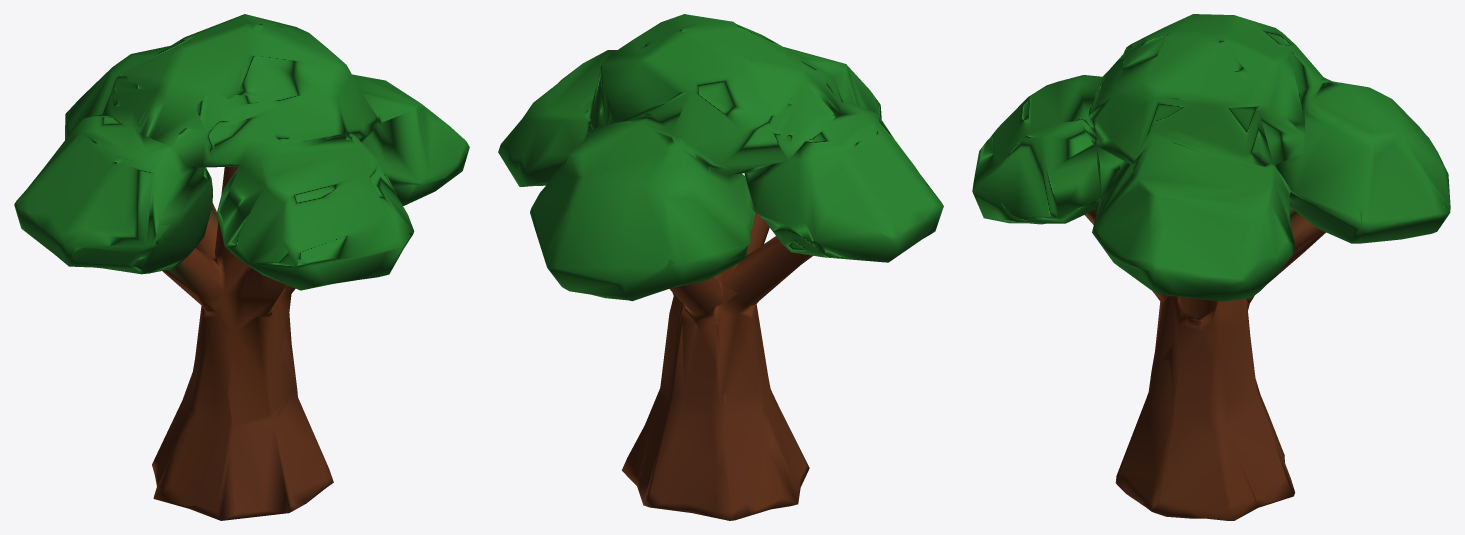
The model's file is gen3d-strangler-fig-tree-lod0.glb.
3 views of the same model, side by side, from view 1: azimuth 30°, elevation 25°; view 2: azimuth 150°, elevation 25°; view 3: azimuth 270°, elevation 25° (orthographic).
Visible parts, largest first — view 1: part_0; view 2: part_0; view 3: part_0.
Part boxes in pixels (left/top/right/bottom): part_0: left=14, top=14, right=469, bottom=520; part_0: left=498, top=14, right=943, bottom=520; part_0: left=972, top=14, right=1450, bottom=520.
Size of the model in its own units: 0.9423 by 0.9951 by 0.9489.
